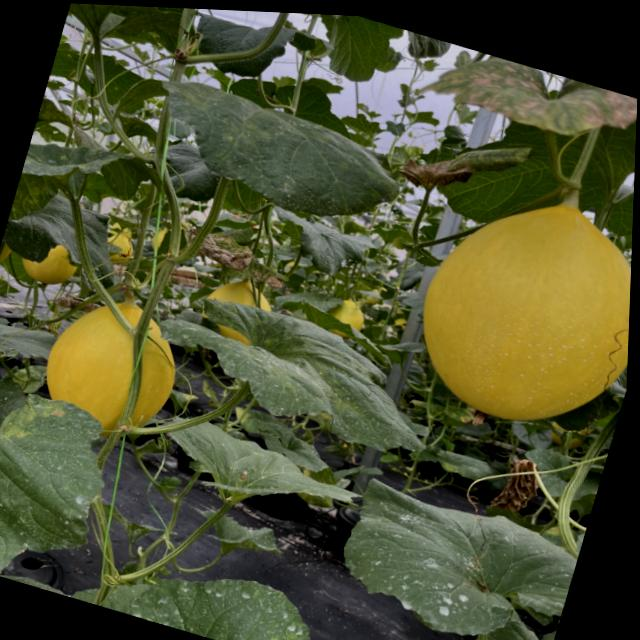CMV: (131, 65, 416, 242), (62, 3, 161, 50)
alternaria leaf blight: (396, 112, 538, 214)
bacterial wilt: (181, 224, 258, 273), (487, 451, 544, 517)
downy mildew: (137, 273, 455, 467), (0, 361, 127, 599), (6, 124, 155, 257)
powdery mildew: (326, 468, 587, 640)
